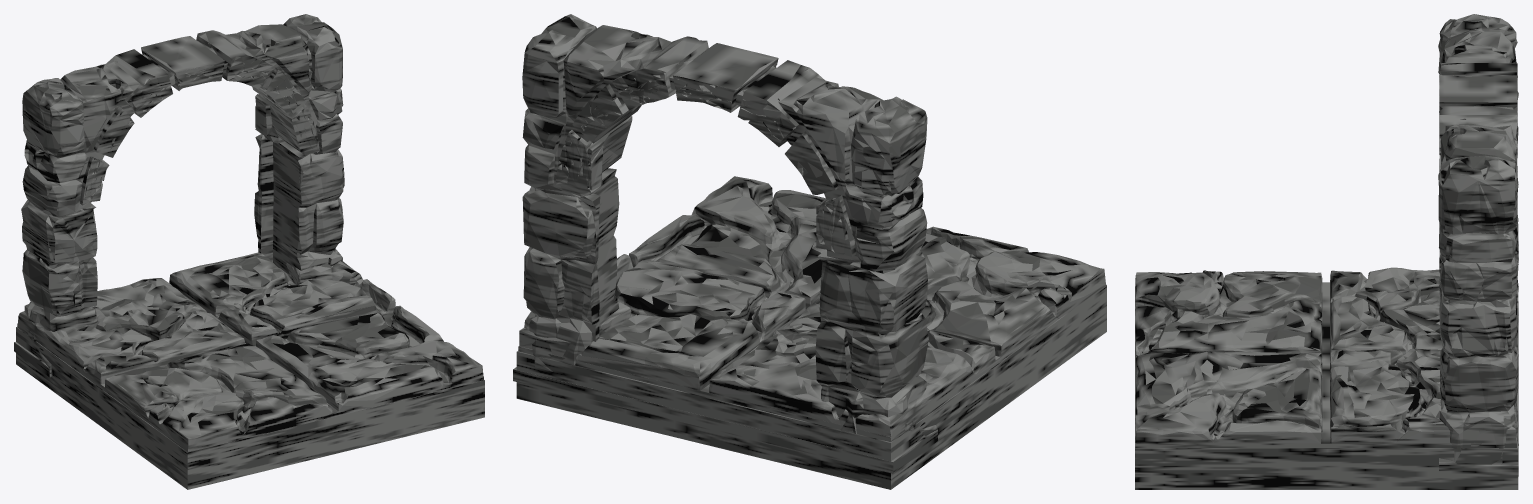
The model's file is rough_stone_arc.fbx.
3 views of the same model, side by side, from view 1: azimuth 30°, elevation 25°; view 2: azimuth 150°, elevation 25°; view 3: azimuth 270°, elevation 25° (orthographic). The views are drawn at different scales.
Parts seen in each view (by area): view 1: Cube.005; view 2: Cube.005; view 3: Cube.005.
Boxes of the visible parts, x1,y1,x2,y2 form: Cube.005: (14, 14, 484, 489); Cube.005: (513, 14, 1106, 489); Cube.005: (1135, 14, 1518, 489).
Size of the model in its own units: 5080 by 4638 by 5009.
1 material, 1 textured.
